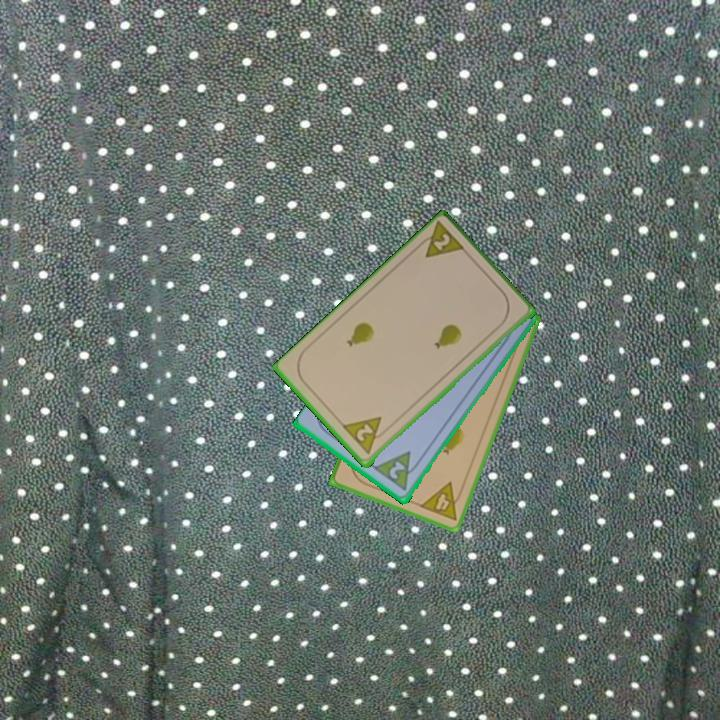2p: (412, 219, 469, 262), (340, 413, 392, 458), (385, 458, 409, 483)
4p: (416, 478, 467, 523)
